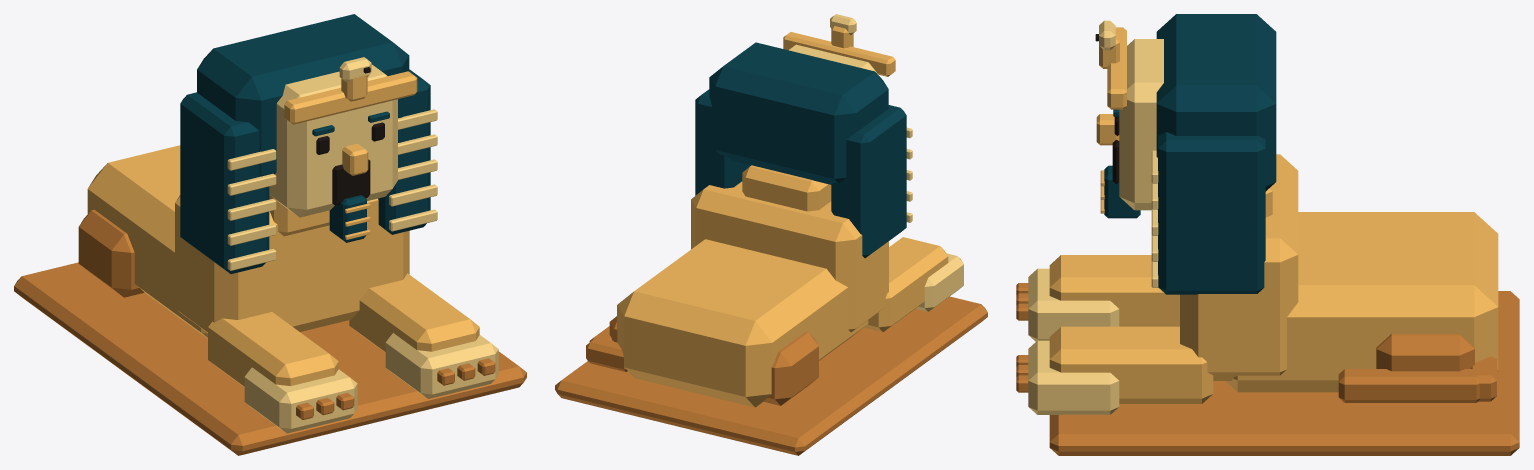
Rendered from esfinge-blockie-redemoinho.obj.
3 renders of one model, left to right at view 1: azimuth 30°, elevation 25°; view 2: azimuth 150°, elevation 25°; view 3: azimuth 270°, elevation 25°, orthographic. The views are drawn at different scales.
Parts seen in each view (by area): view 1: esfinge-blockie-redemoinho; view 2: esfinge-blockie-redemoinho; view 3: esfinge-blockie-redemoinho.
Part boxes in pixels (x1,y1,x2,y2): esfinge-blockie-redemoinho: (14, 14, 526, 455); esfinge-blockie-redemoinho: (555, 14, 987, 455); esfinge-blockie-redemoinho: (1016, 14, 1519, 455).
Bounding box in the file's own units: 2.35 × 2.61 × 3.32.
Materials: 1 (1 with a texture image).
